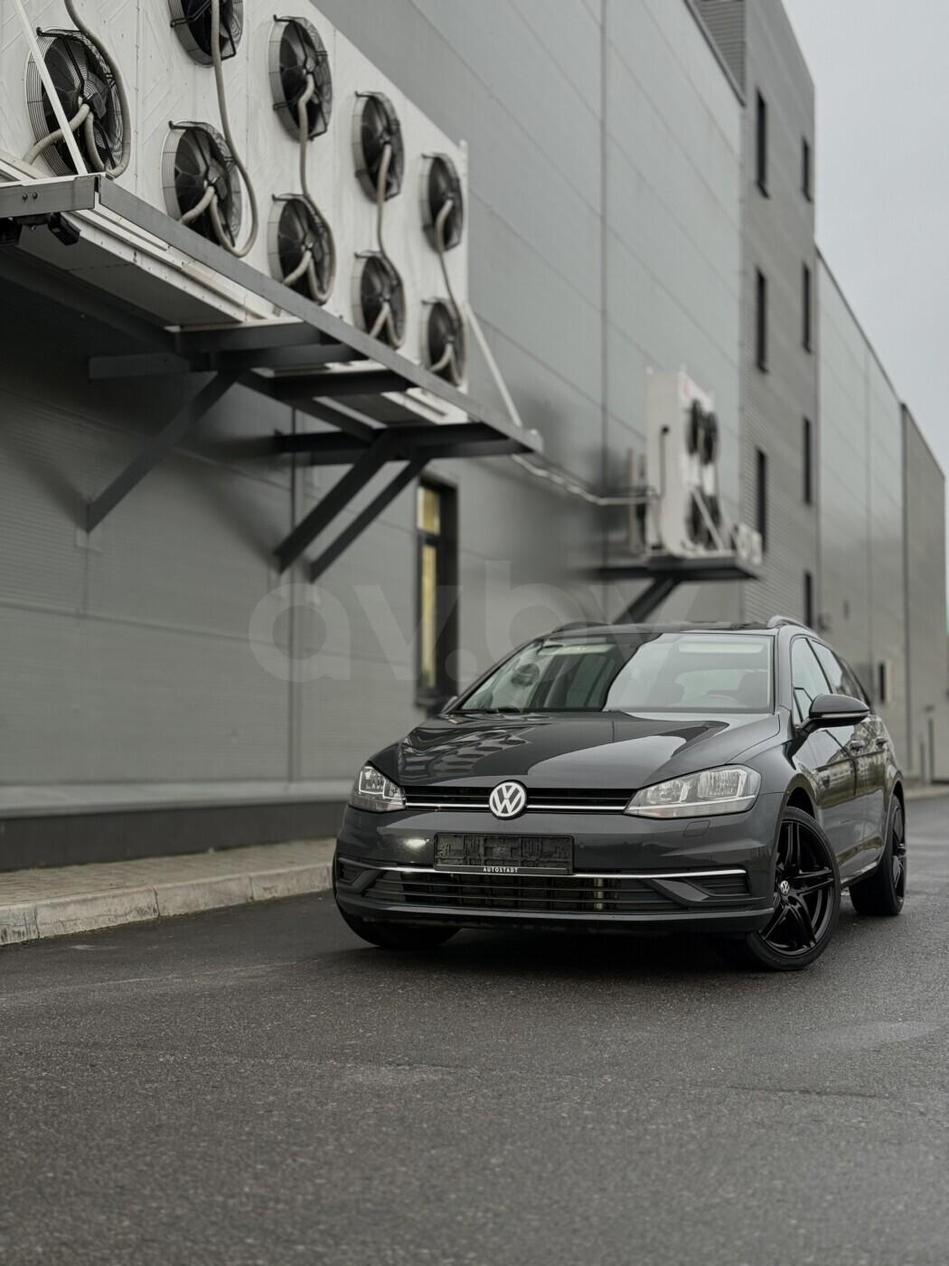Golf_2017-2021: (330, 611, 912, 975)
